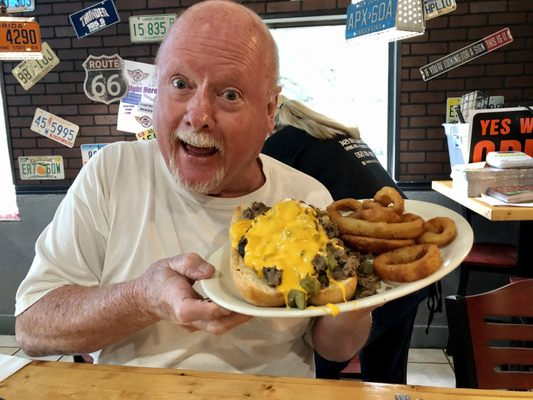pasta: (447, 279, 533, 392)
salad: (374, 244, 443, 282), (419, 215, 457, 246)
